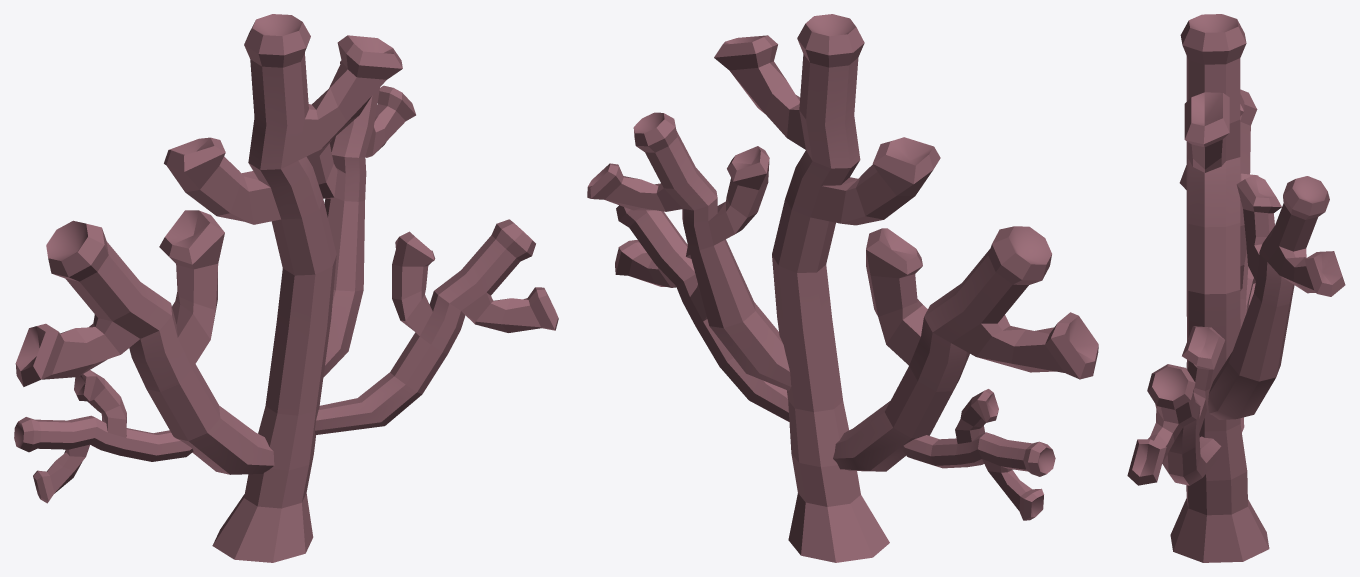
Rendered from coral_model_1.fbx.
The picture shows the model from 3 angles, left to right: view 1: azimuth 30°, elevation 25°; view 2: azimuth 150°, elevation 25°; view 3: azimuth 270°, elevation 25°; orthographic projection. The views are drawn at different scales.
Visible parts, largest first — view 1: pCylinder6; view 2: pCylinder6; view 3: pCylinder6.
Part boxes in pixels (box(x1,y1,x2,y2)): pCylinder6: box(14, 14, 558, 562); pCylinder6: box(587, 14, 1098, 562); pCylinder6: box(1127, 14, 1345, 562).
Bounding box in the file's own units: 28.66 × 27.79 × 10.46.
